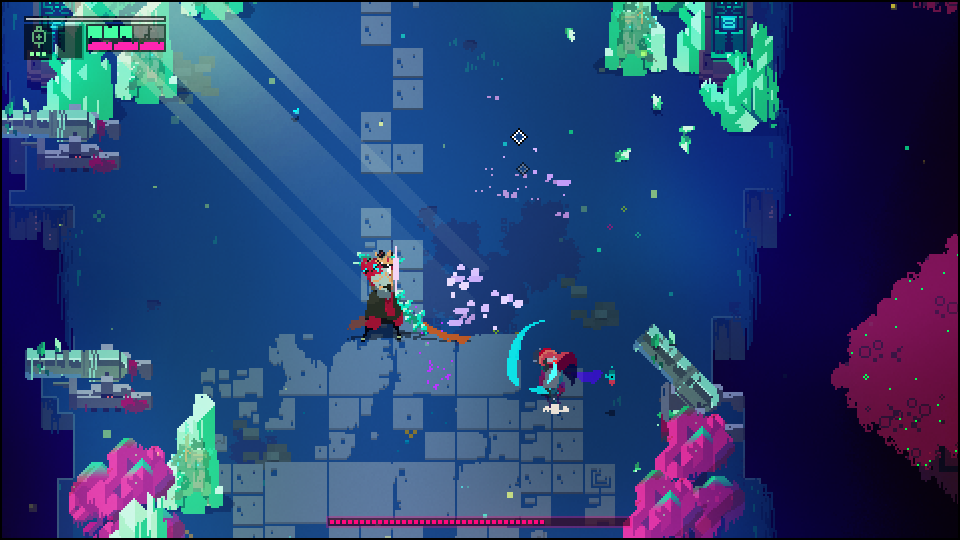hanged_man: (344, 246, 435, 342)
player: (507, 317, 579, 404)
